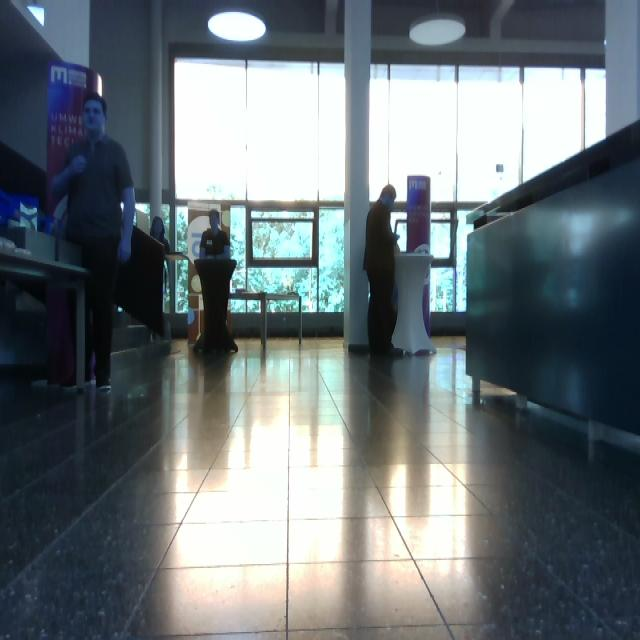light bulb: (208, 11, 267, 43), (409, 13, 466, 46), (27, 3, 45, 27)
person: (51, 92, 136, 392), (363, 185, 405, 357), (194, 209, 239, 353)
pillar: (343, 1, 372, 352)
tiled floor: (2, 332, 639, 638)
window: (173, 54, 346, 316)
